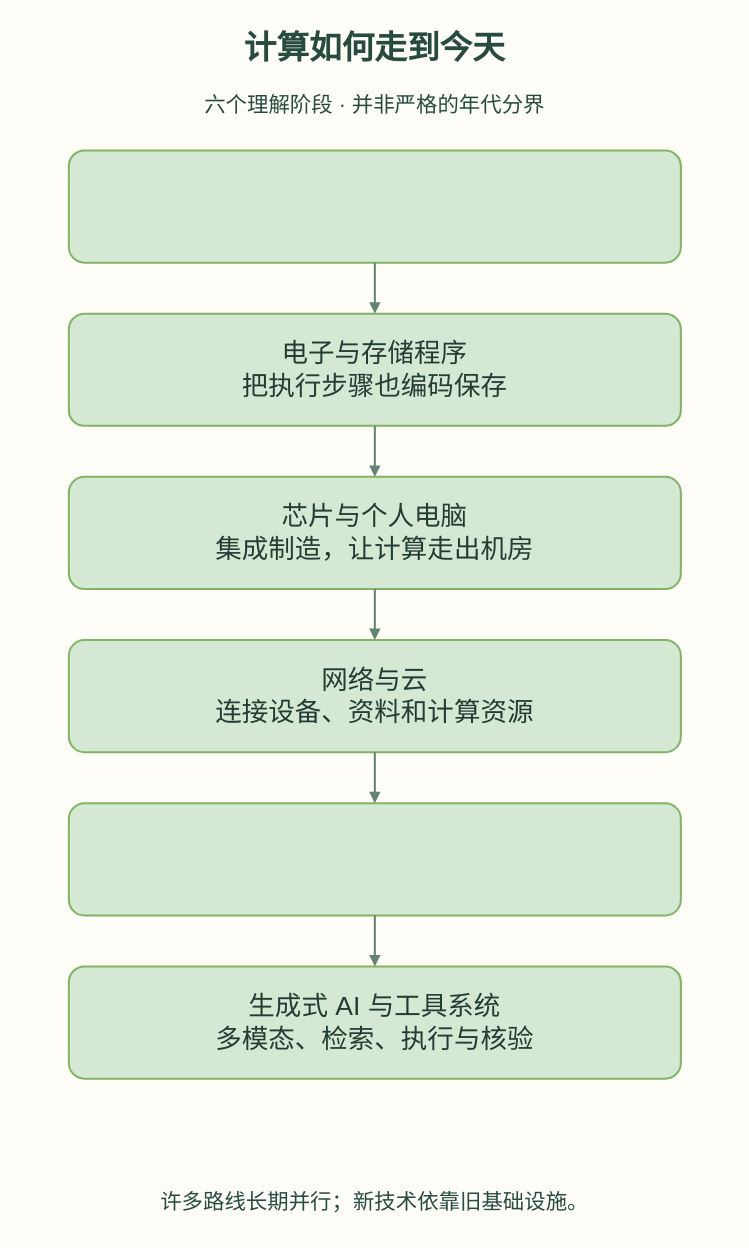
Image size: 749x1248. Some labels were removed from this diagram. Here are the shapes that lost their labels. From the top down, the centre of each, then its label:
At point 374,206: "方法与机械 算法、数表、齿轮、穿孔卡".
At point 374,859: "机器学习与深度学习 用数据和目标调整模型".
